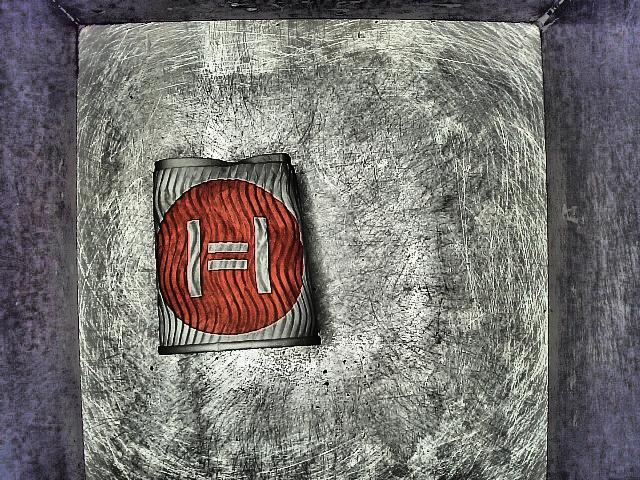Paper: (125, 152, 349, 368)
